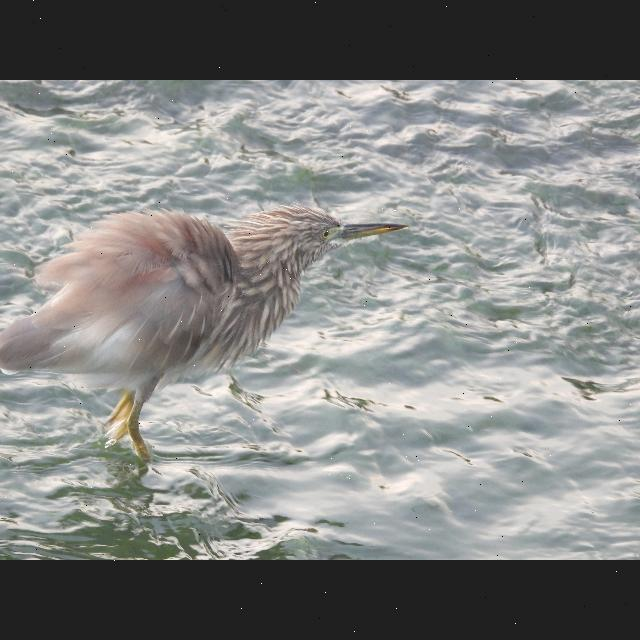heron: (1, 198, 413, 462)
